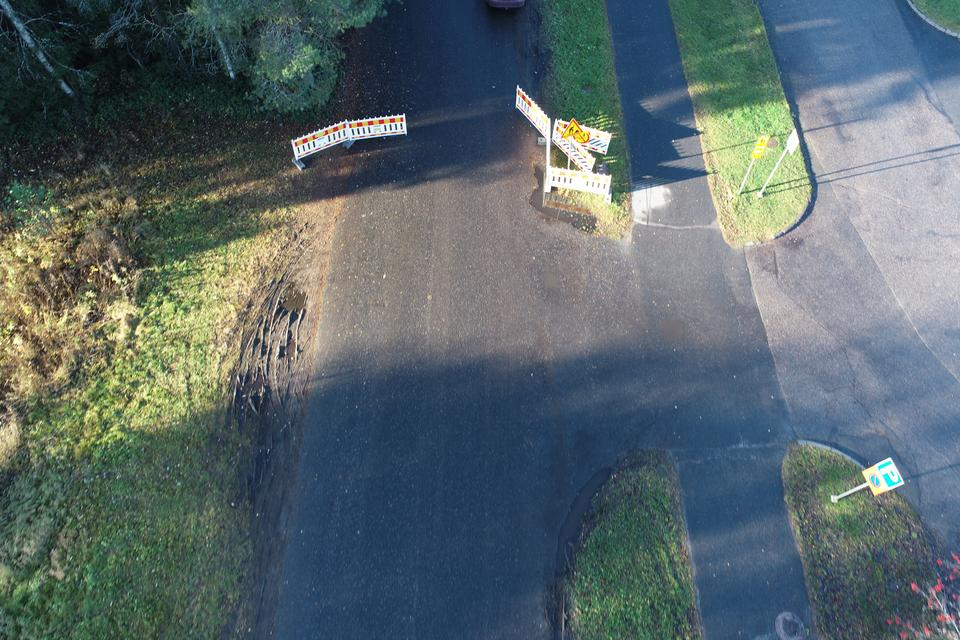intersection: (239, 161, 959, 515)
